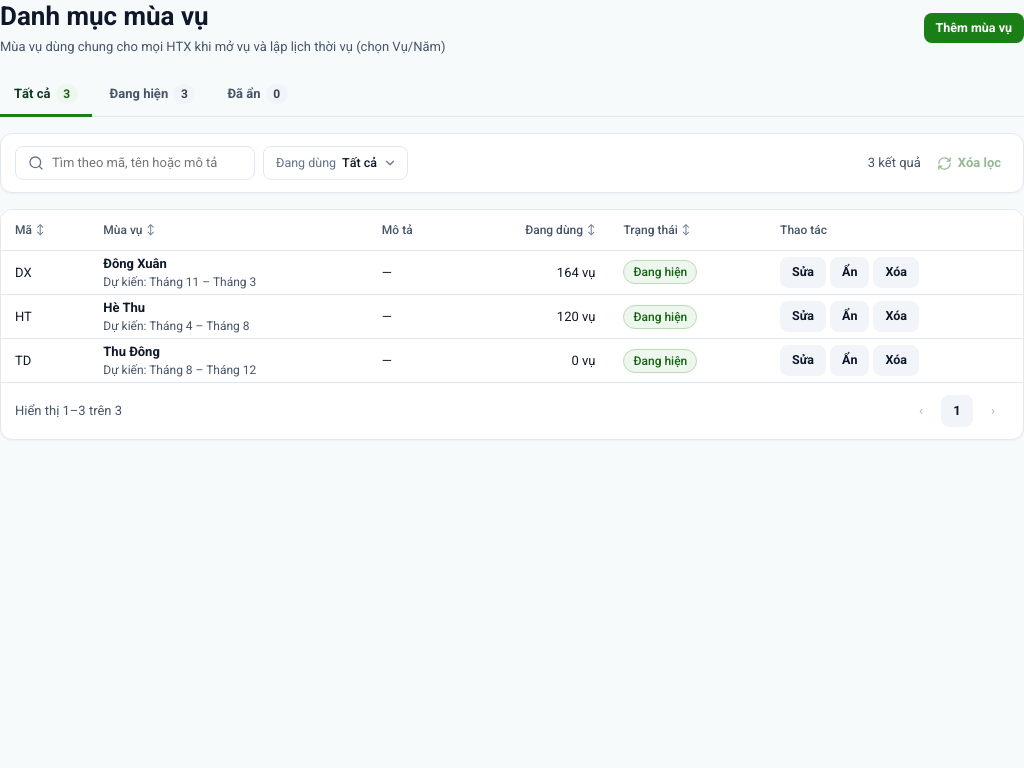
Test: Mẫu danh sách UX-01 (AH-292) › bấm ô mã mở hộp Sửa; bấm nút Xóa cuối dòng chỉ mở hộp Xóa
Click the text "DX".
click(45, 272)  # box [1,250,89,294]
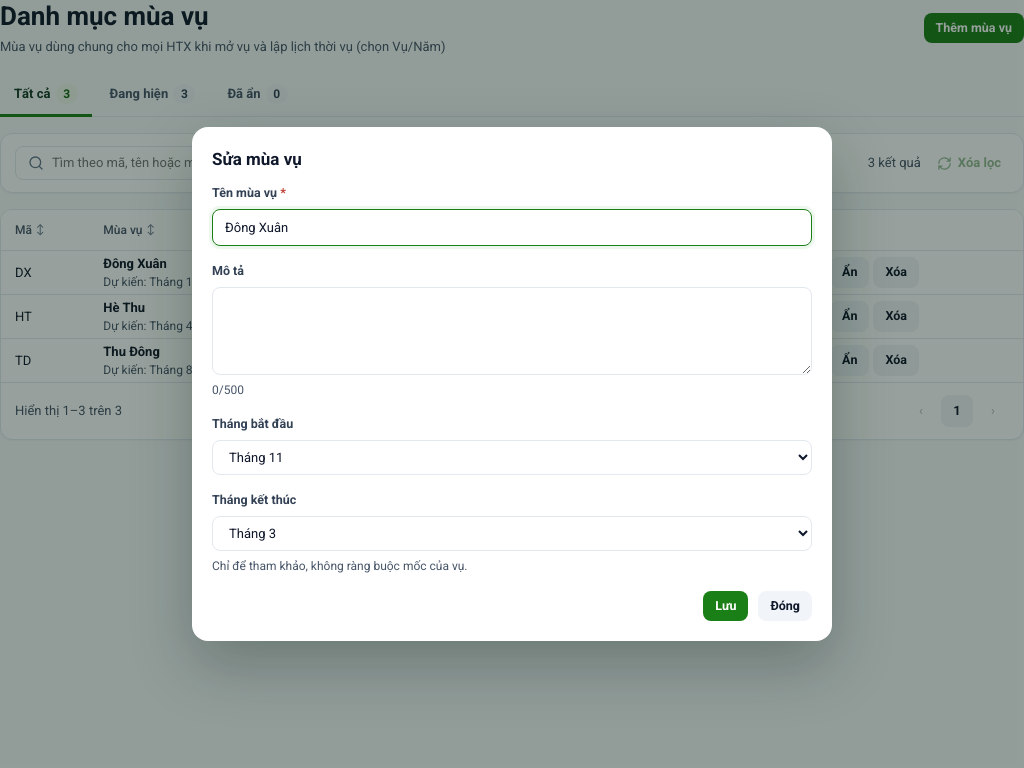
Check: the heading "Sửa mùa vụ" is shown, box [212,149,302,169]
Check: the field labelled "Tên mùa vụ *" holds "Đông Xuân", box [212,209,812,246]
Press Escape
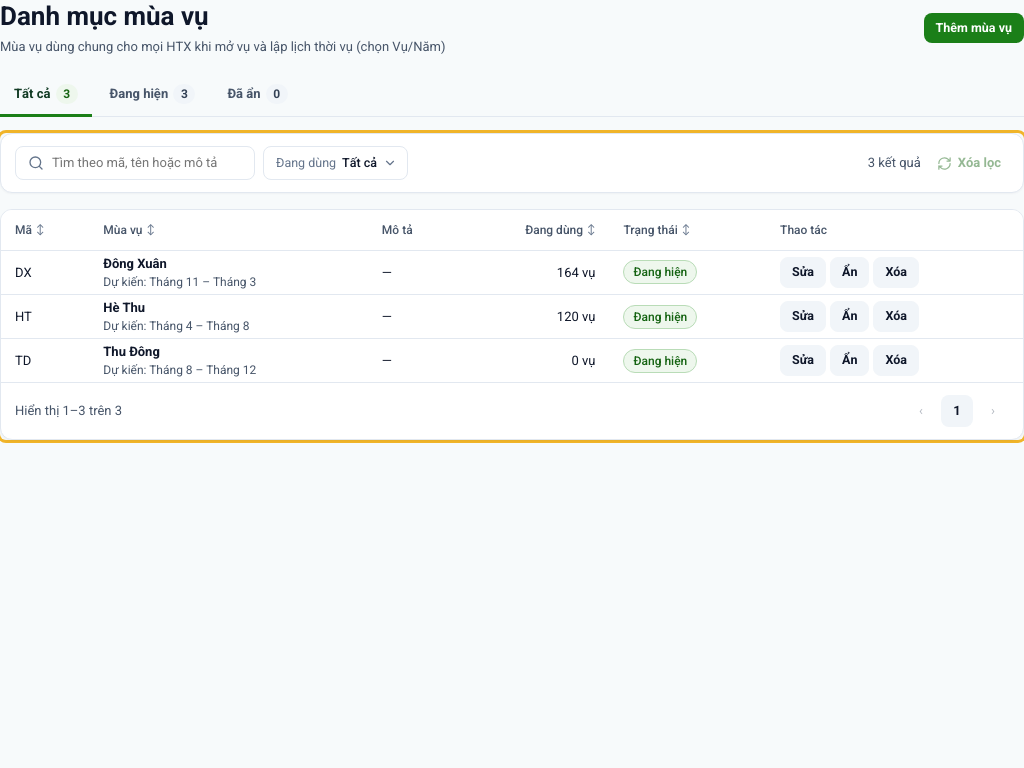
Check: the dialog is gone
Click the button with aria-label "Xóa Hè Thu".
click(896, 316)  # box [874,301,919,332]
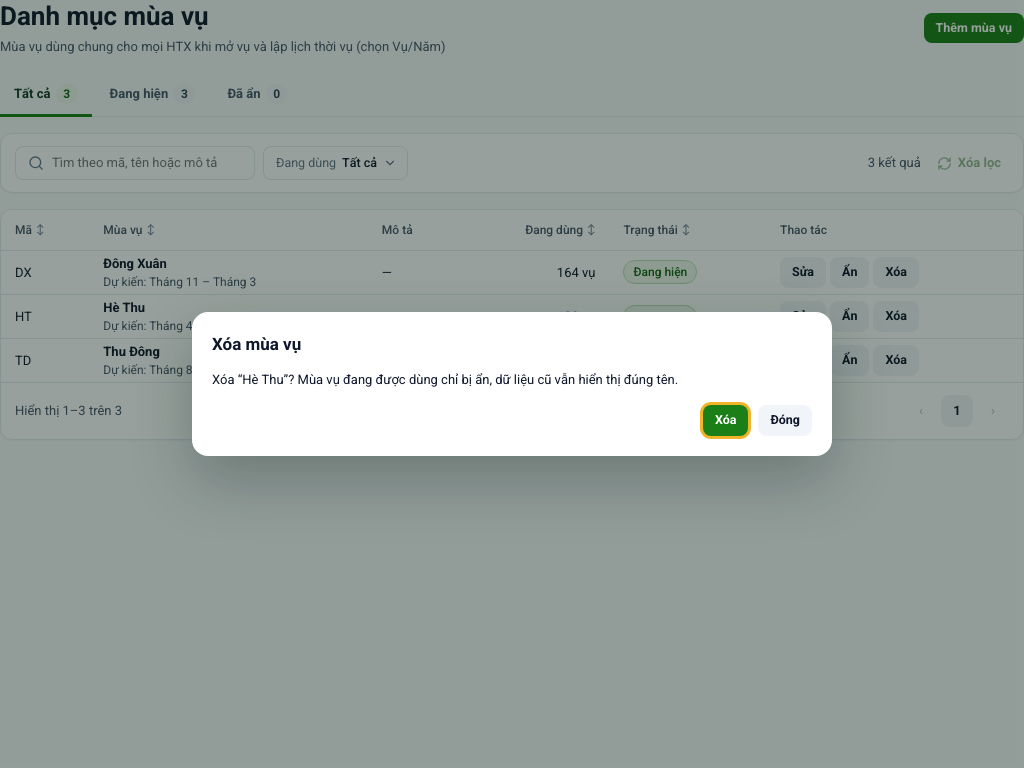
Check: the heading "Sửa mùa vụ" is not shown
Check: the heading "Xóa mùa vụ" is shown, box [212,334,301,354]
